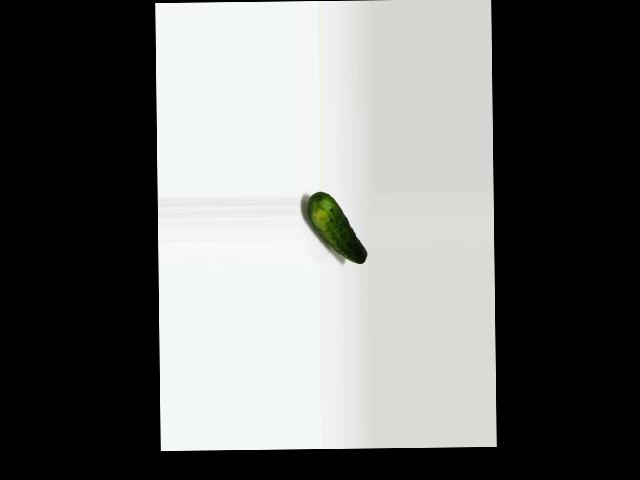cucumber: (308, 192, 366, 264)
